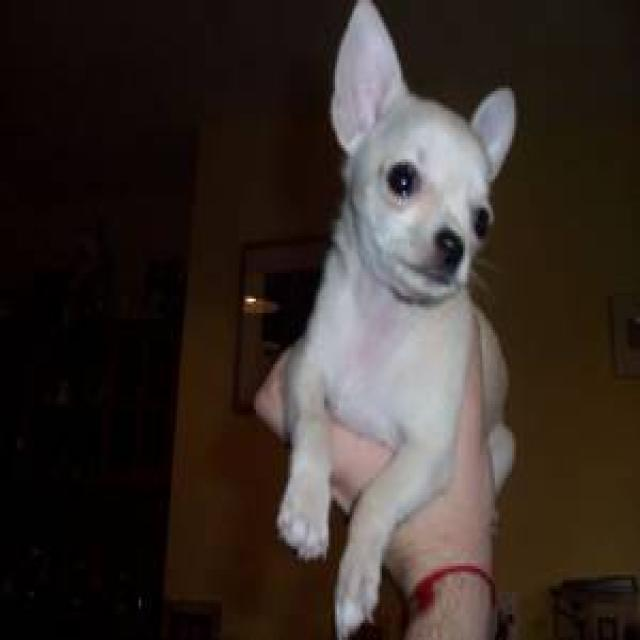dog-chihuahua: (262, 3, 527, 634)
